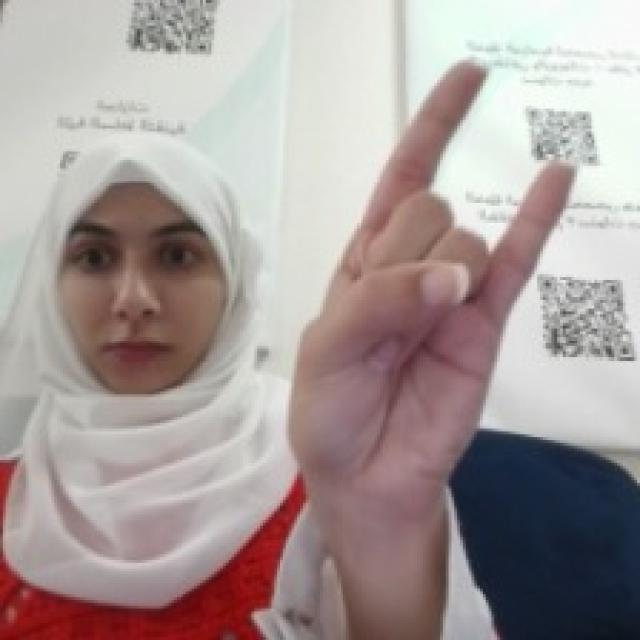No: (291, 46, 583, 483)
